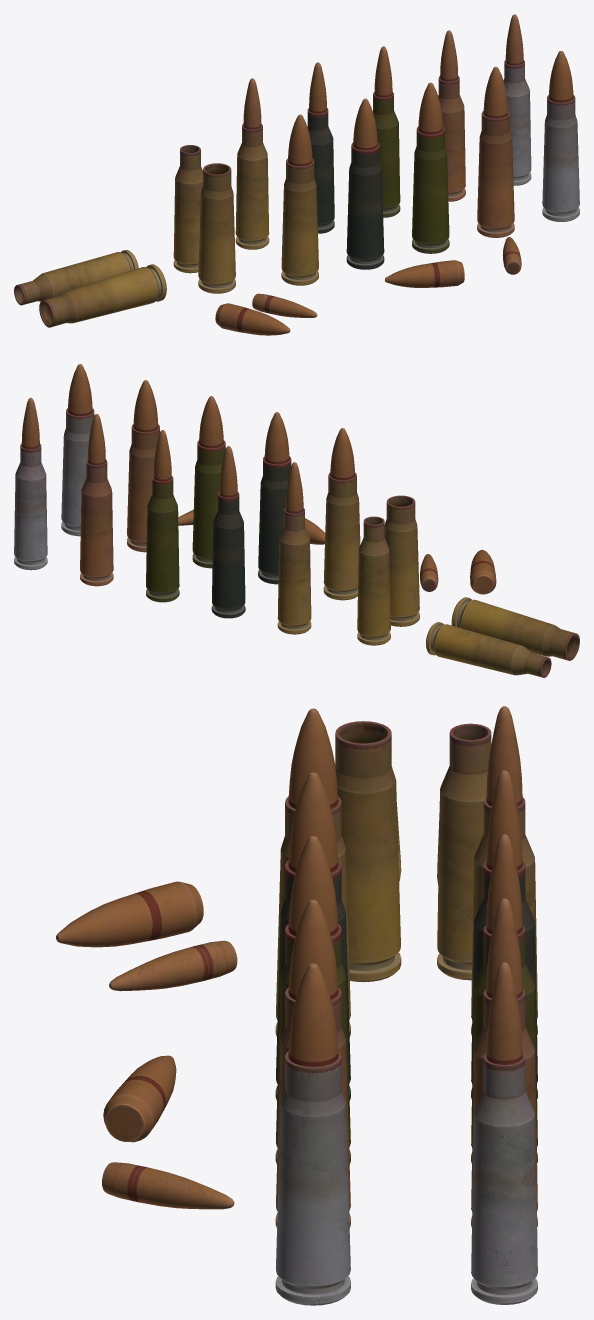
The model's file is item-rifleAmmo.glb.
3 renders of one model, top to bottom at view 1: azimuth 30°, elevation 25°; view 2: azimuth 150°, elevation 25°; view 3: azimuth 270°, elevation 25°, orthographic. The views are drawn at different scales.
Parts seen in each view (by area): view 1: 7_62_39mm_shell.002, 5_45_39mm_bullet.002, 7_62_39mm_shell, 7_62_39mm_shell.004, 7_62_39mm_shell.003, 7_62_39mm_shell.006, 7_62_39mm_shell.005, 5_45_39mm_shell, 5_45_39mm_shell.006, 5_45_39mm_shell.005, 5_45_39mm_shell.004, 5_45_39mm_shell.003; view 2: 7_62_39mm_shell.002, 5_45_39mm_bullet.002, 7_62_39mm_shell, 5_45_39mm_shell.003, 5_45_39mm_shell.004, 5_45_39mm_shell.006, 5_45_39mm_shell.005, 5_45_39mm_shell, 7_62_39mm_shell.003, 7_62_39mm_shell.004, 7_62_39mm_shell.005, 7_62_39mm_shell.006; view 3: 7_62_39mm_shell.002, 7_62_39mm_shell.006, 5_45_39mm_bullet.002, 5_45_39mm_shell.006, 7_62_39mm_shell.005, 7_62_39mm_shell, 7_62_39mm_shell.003, 7_62_39mm_shell.004, 5_45_39mm_shell.005, 5_45_39mm_shell.003, 5_45_39mm_shell.004, 5_45_39mm_shell.
Part boxes in pixels (x1,y1,x2,y2): 7_62_39mm_shell.002: (39, 163, 464, 335); 5_45_39mm_bullet.002: (14, 145, 521, 317); 7_62_39mm_shell: (281, 114, 318, 285); 7_62_39mm_shell.004: (412, 82, 449, 253); 7_62_39mm_shell.003: (346, 98, 384, 269); 7_62_39mm_shell.006: (542, 51, 579, 221); 7_62_39mm_shell.005: (477, 66, 514, 237); 5_45_39mm_shell: (235, 78, 269, 249); 5_45_39mm_shell.006: (503, 14, 531, 185); 5_45_39mm_shell.005: (438, 30, 465, 201); 5_45_39mm_shell.004: (373, 46, 400, 217); 5_45_39mm_shell.003: (307, 62, 334, 233); 7_62_39mm_shell.002: (305, 495, 579, 660); 5_45_39mm_bullet.002: (178, 510, 551, 677); 7_62_39mm_shell: (323, 428, 360, 600); 5_45_39mm_shell.003: (211, 446, 245, 618); 5_45_39mm_shell.004: (146, 430, 179, 602); 5_45_39mm_shell.006: (14, 397, 47, 570); 5_45_39mm_shell.005: (80, 414, 113, 586); 5_45_39mm_shell: (277, 462, 311, 634); 7_62_39mm_shell.003: (258, 412, 291, 584); 7_62_39mm_shell.004: (192, 396, 225, 568); 7_62_39mm_shell.005: (127, 380, 159, 552); 7_62_39mm_shell.006: (61, 364, 94, 536); 7_62_39mm_shell.002: (56, 721, 401, 1142); 7_62_39mm_shell.006: (275, 963, 350, 1305); 5_45_39mm_bullet.002: (102, 723, 491, 1209); 5_45_39mm_shell.006: (471, 962, 537, 1304); 7_62_39mm_shell.005: (275, 899, 350, 1227); 7_62_39mm_shell: (275, 708, 350, 1036); 7_62_39mm_shell.003: (275, 772, 350, 1100); 7_62_39mm_shell.004: (275, 836, 350, 1164); 5_45_39mm_shell.005: (471, 898, 537, 1227); 5_45_39mm_shell.003: (471, 770, 537, 1099); 5_45_39mm_shell.004: (471, 834, 537, 1163); 5_45_39mm_shell: (471, 706, 537, 1035).
Size of the model in its own units: 0.4408 by 0.1339 by 0.1772.
Materials: 10 (10 with a texture image).
